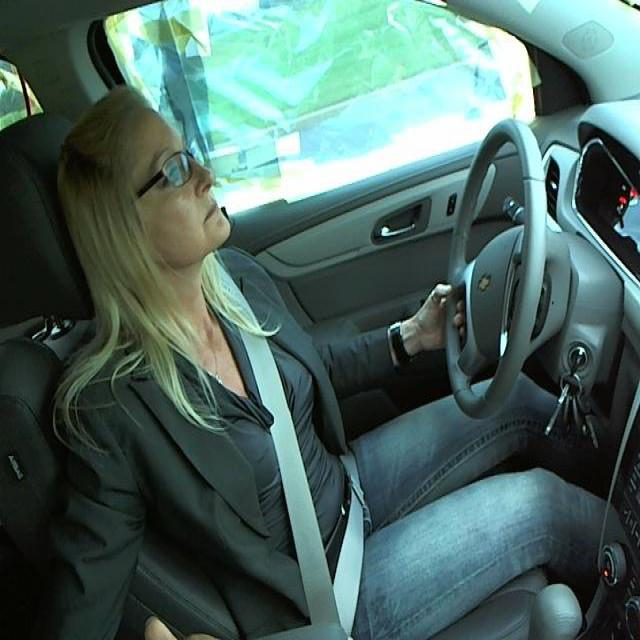seatbelt: (230, 328, 376, 616)
